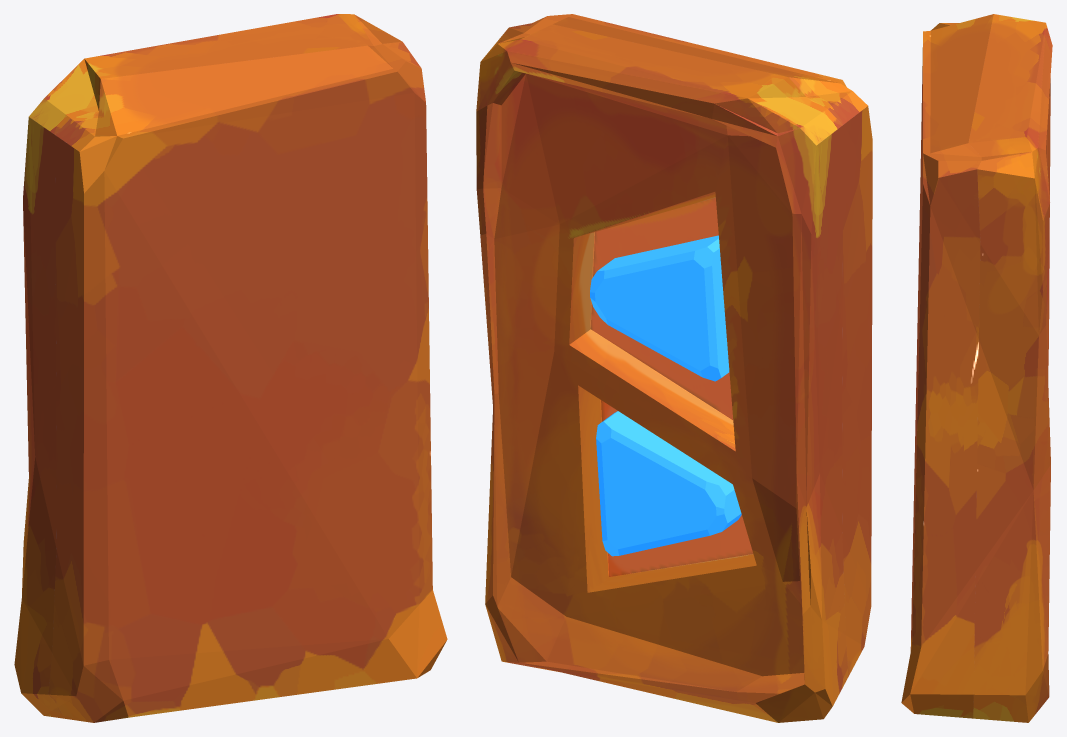
The model's file is rotation grip.fbx.
3 views of the same model, side by side, from view 1: azimuth 30°, elevation 25°; view 2: azimuth 150°, elevation 25°; view 3: azimuth 270°, elevation 25° (orthographic). The views are drawn at different scales.
Parts seen in each view (by area): view 1: Cube; view 2: Cube, Cube.002, Cube.001; view 3: Cube.
Boxes of the visible parts, x1,y1,x2,y2 form: Cube: (14, 14, 447, 722); Cube: (476, 14, 872, 722); Cube.002: (596, 411, 741, 556); Cube.001: (590, 235, 729, 381); Cube: (901, 14, 1052, 722).
Bounding box in the file's own units: 472 × 801 × 187.
